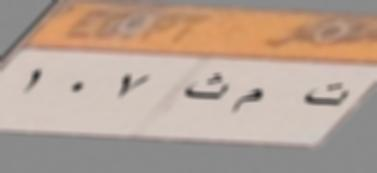0: (62, 75, 94, 100)
1: (22, 64, 46, 97)
7: (111, 66, 155, 104)
meem: (233, 84, 262, 119)
taa: (294, 72, 352, 115)
thaa: (182, 71, 228, 104)
